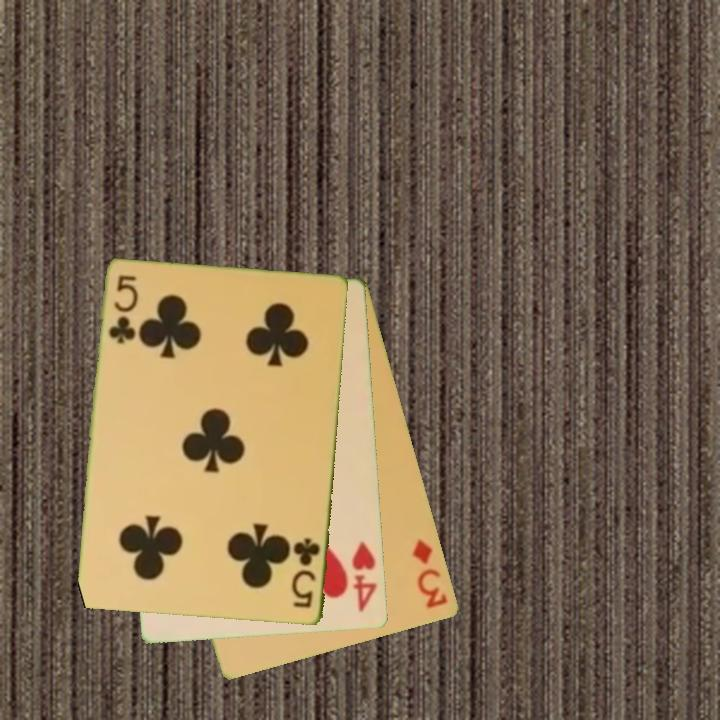3d: (409, 535, 451, 612)
4h: (349, 538, 380, 616)
5c: (288, 534, 323, 611), (106, 272, 139, 347)
